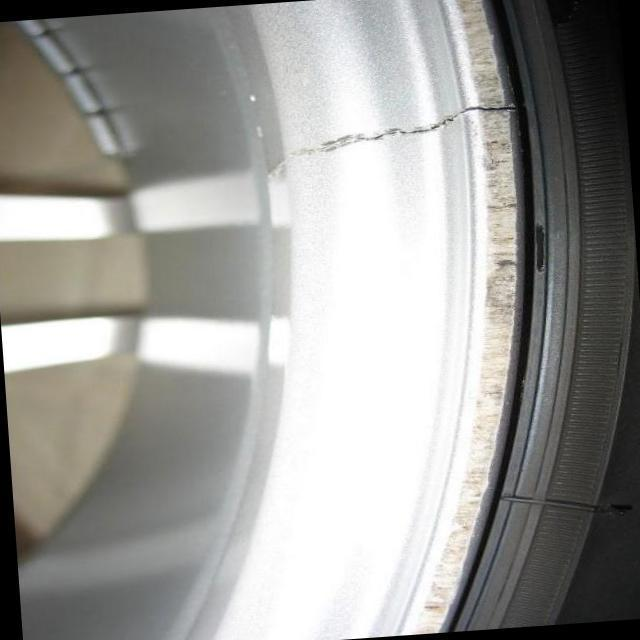defect: (261, 100, 530, 178)
